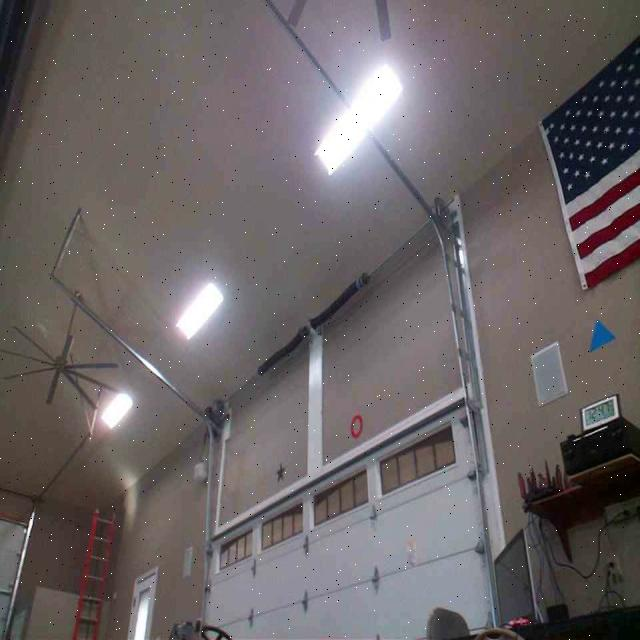ring_red: (350, 412, 363, 436)
star_black: (274, 463, 285, 482)
triangle_blue: (587, 317, 615, 353)
